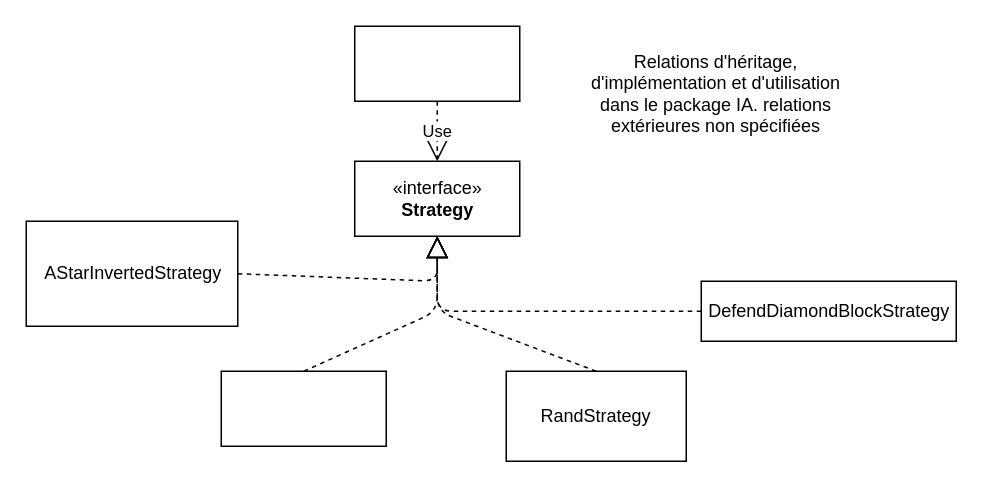
Image size: 983x488. Some labels were removed from this diagram. The centre of each missing label's shape, as x and y in pixels:
AI: (x=436, y=63)
AStarStrategy: (x=303, y=408)
